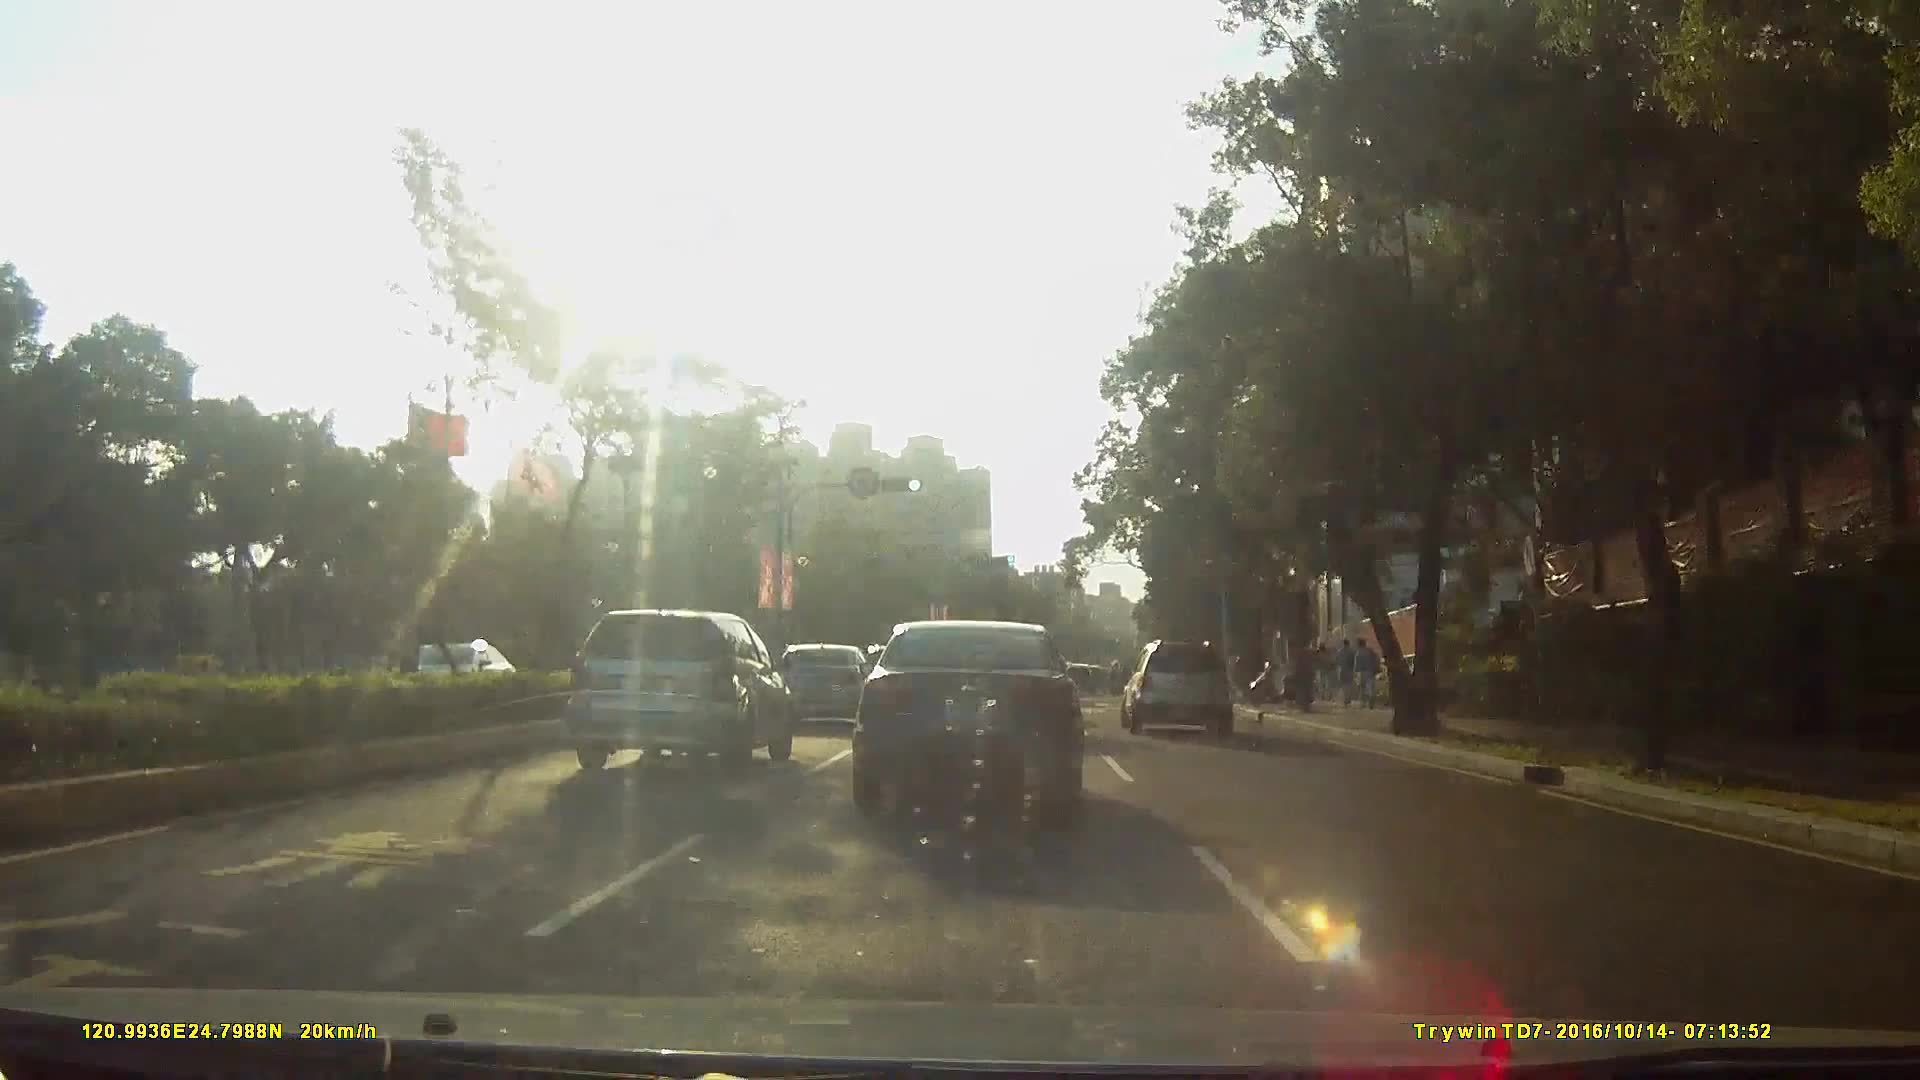pedestrian: (1352, 635, 1380, 711), (1337, 635, 1357, 711)
vehicle: (850, 611, 1084, 821), (563, 600, 793, 769), (1117, 635, 1248, 733), (390, 640, 533, 707), (777, 642, 872, 728)
